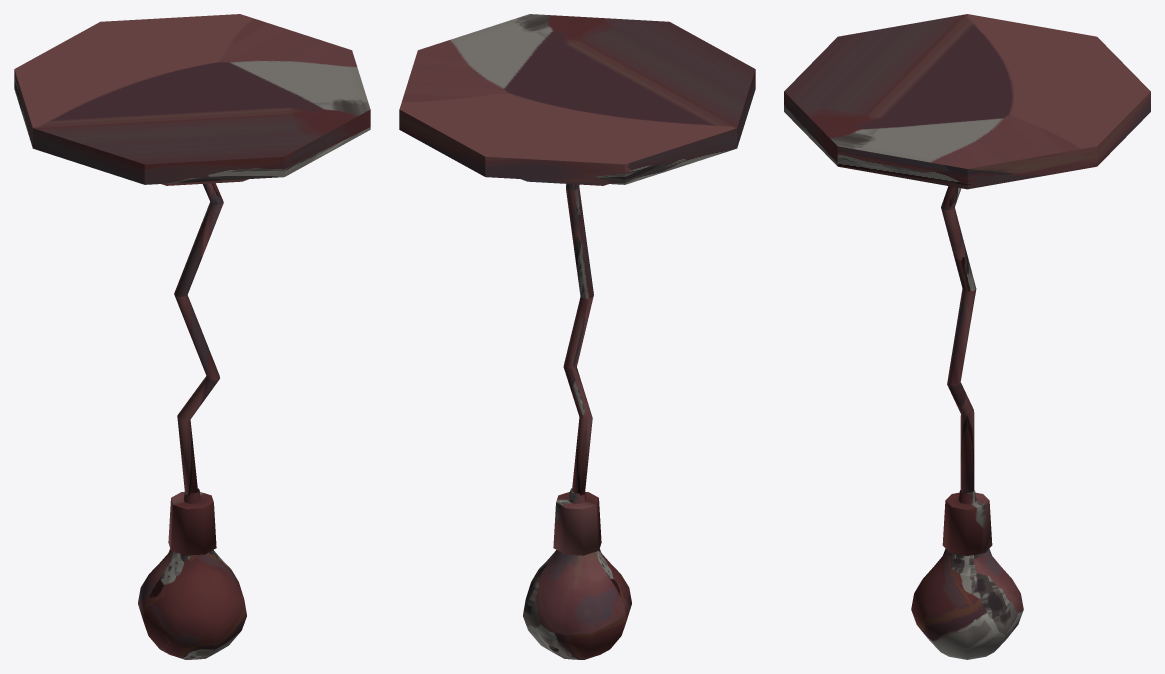
File: balb.fbx
3 views of the same model, side by side, from view 1: azimuth 30°, elevation 25°; view 2: azimuth 150°, elevation 25°; view 3: azimuth 270°, elevation 25° (orthographic).
Visible parts, largest first — view 1: balb; view 2: balb; view 3: balb.
Boxes of the visible parts, x1,y1,x2,y2 form: balb: (14,14,370,659); balb: (399,14,755,659); balb: (784,14,1150,659).
Bounding box in the file's own units: 249 × 424 × 249.
